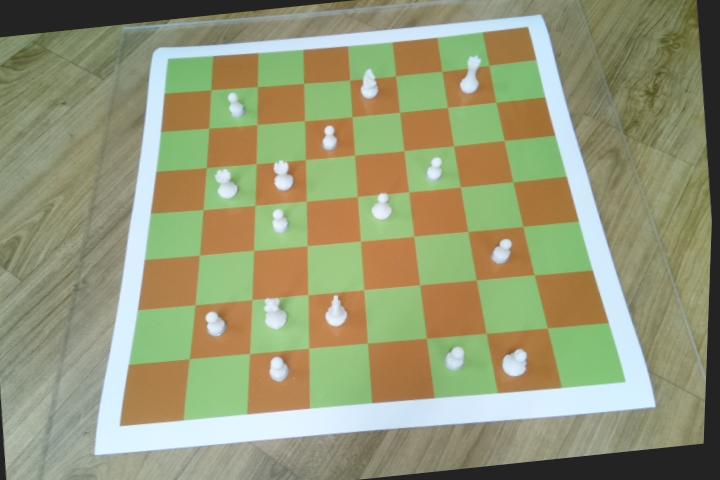chessboard-detect: (121, 25, 631, 426)
